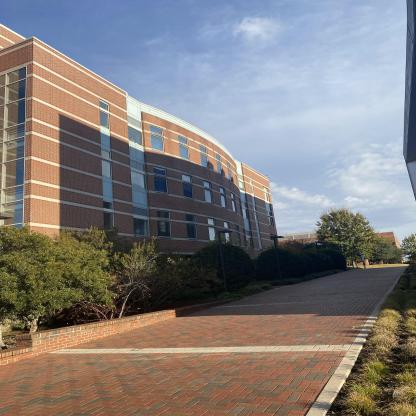EB-1: (0, 14, 295, 279)
